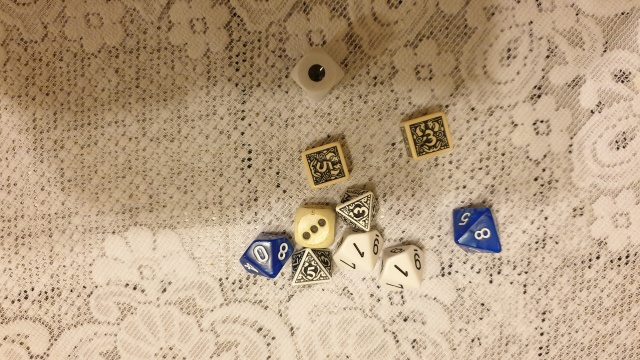d10-10: (331, 226, 384, 279), (237, 231, 292, 282), (379, 243, 426, 297)
d10-8: (448, 202, 504, 260)
d6-1: (288, 45, 343, 101)
d6-3: (290, 203, 337, 247)
d6p-3: (399, 108, 453, 162)
d6p-5: (298, 141, 354, 189)
d8p-3: (332, 184, 377, 232)
d8p-5: (287, 246, 336, 290)
